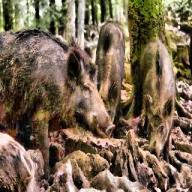boar: (0, 27, 116, 182), (138, 37, 178, 160)
